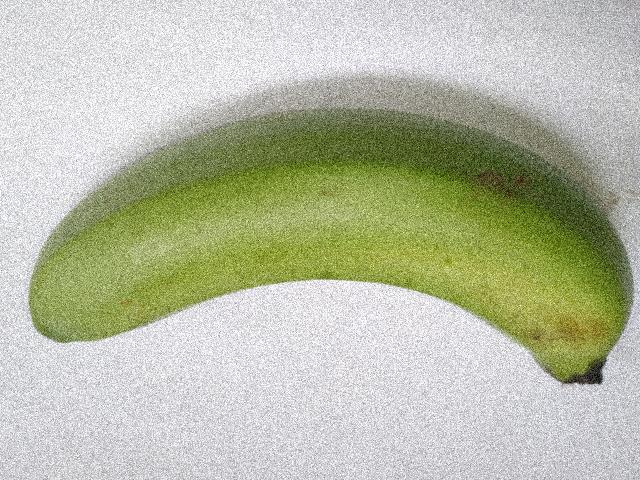freshunripe: (15, 86, 636, 398)
